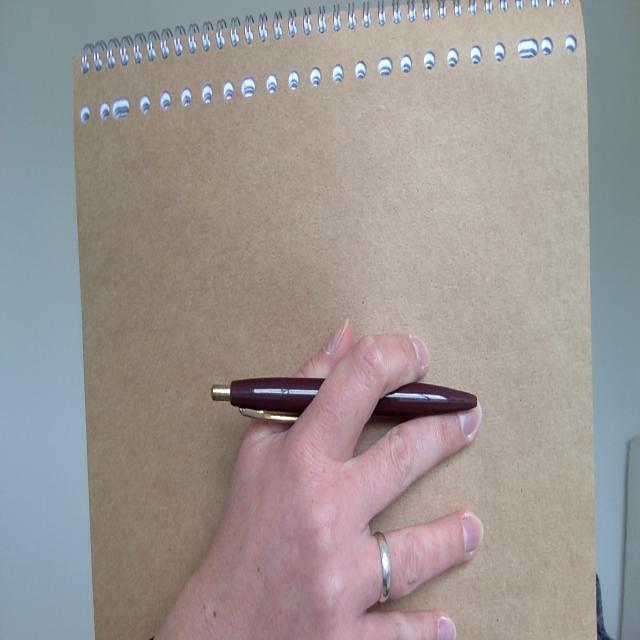pen: (203, 359, 484, 437)
